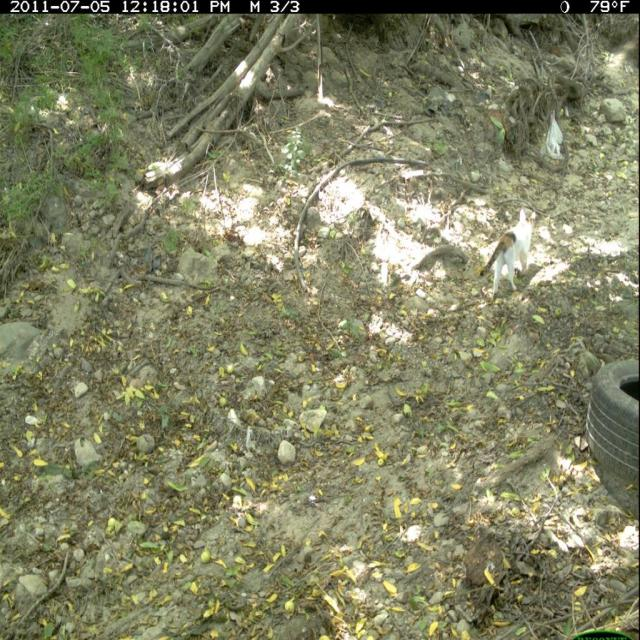cat: (479, 203, 541, 302)
